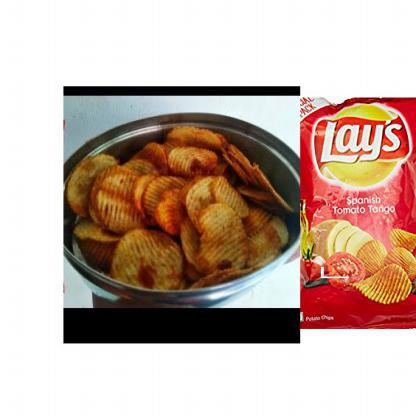tangy_tomato: (299, 94, 415, 332)
